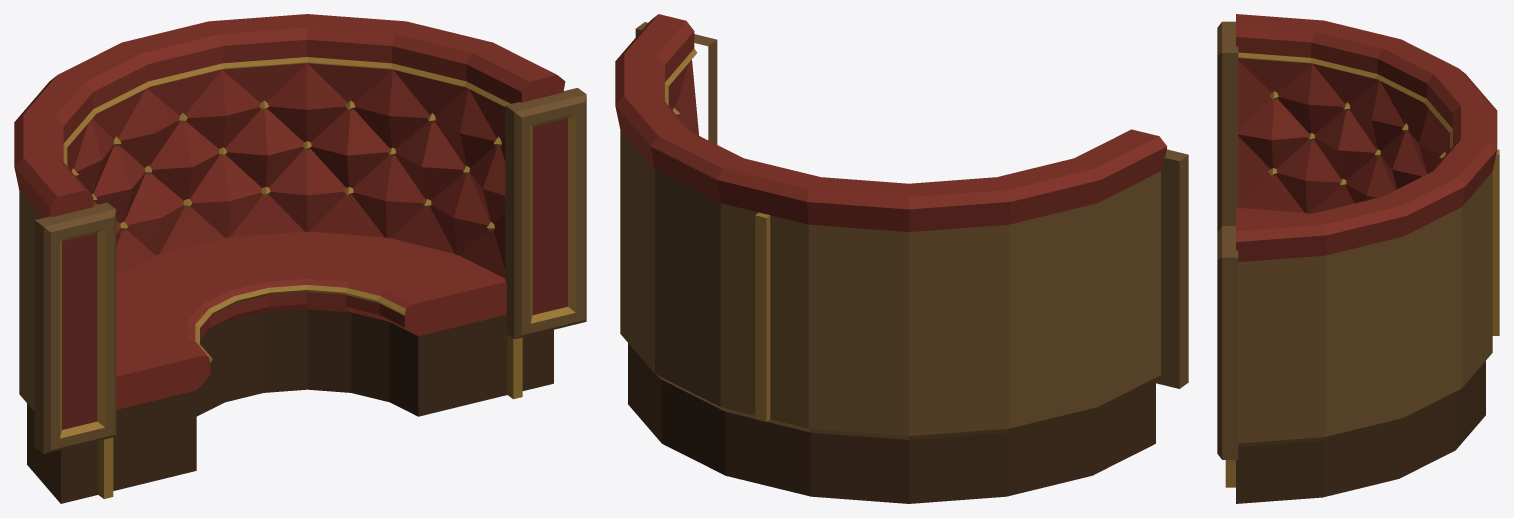
The model's file is crescent-velvet-booth-c97ac6.glb.
The picture shows the model from 3 angles, left to right: view 1: azimuth 30°, elevation 25°; view 2: azimuth 150°, elevation 25°; view 3: azimuth 270°, elevation 25°; orthographic projection. The views are drawn at different scales.
Visible parts, largest first — view 1: booth; view 2: booth; view 3: booth.
Part boxes in pixels (x1,y1,x2,y2): booth: (14,14,586,503); booth: (615,14,1188,503); booth: (1217,14,1499,503).
Bounding box in the file's own units: 2.4 × 1.3 × 1.21.
